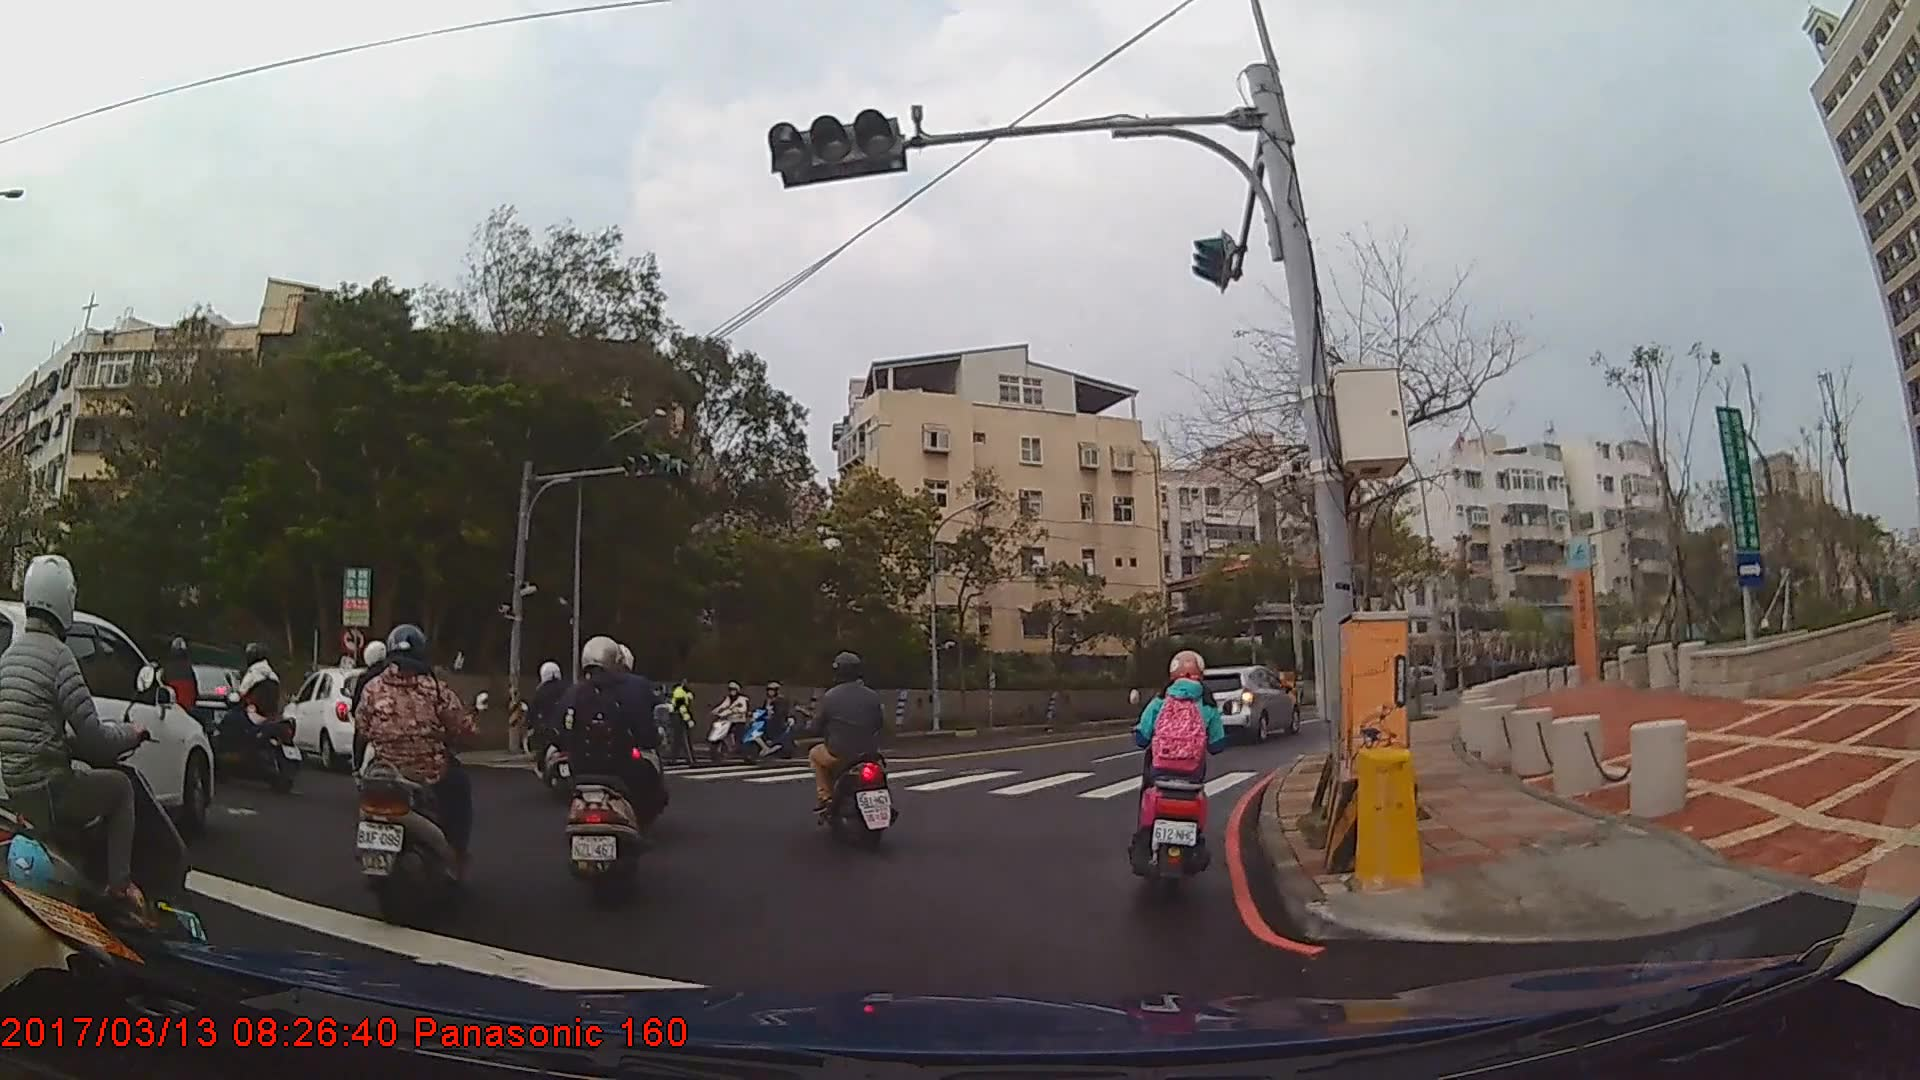pedestrian: (660, 670, 705, 772)
rider: (1, 552, 207, 1004), (350, 624, 478, 922), (549, 633, 665, 901), (1133, 650, 1232, 897), (802, 649, 897, 851), (588, 645, 669, 835), (513, 660, 593, 801), (220, 637, 289, 788), (143, 634, 206, 772), (745, 681, 801, 760), (710, 680, 757, 761)
vehicle: (0, 599, 212, 840), (279, 666, 409, 767), (1179, 663, 1300, 743), (1378, 663, 1448, 700)
